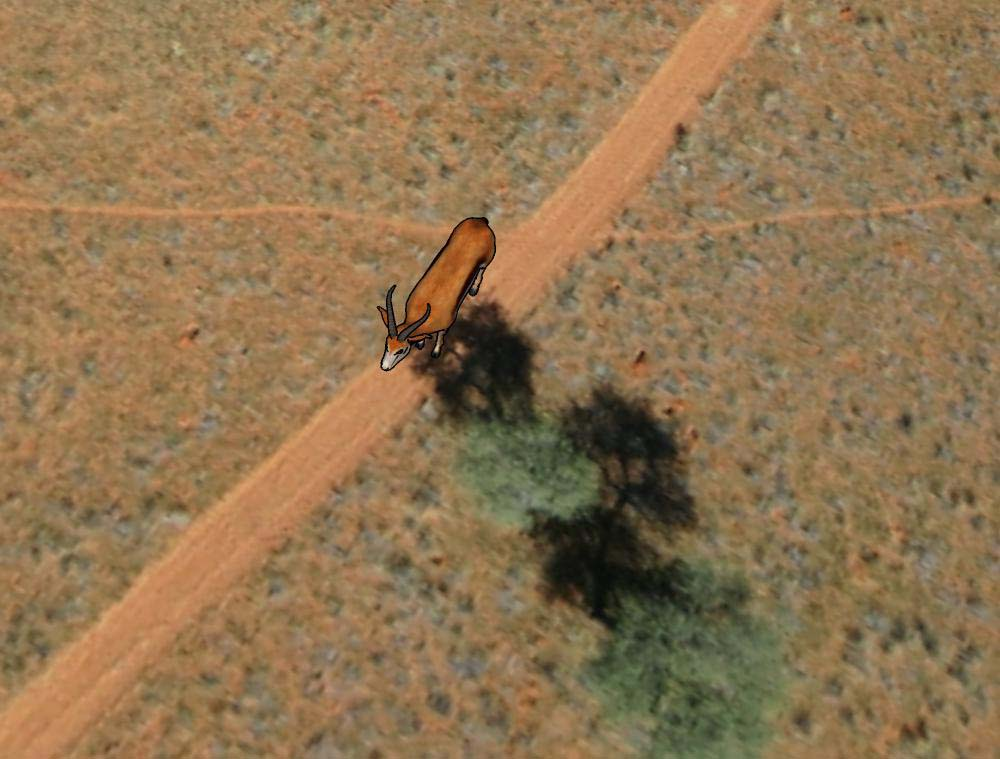springbok: (379, 213, 499, 377)
